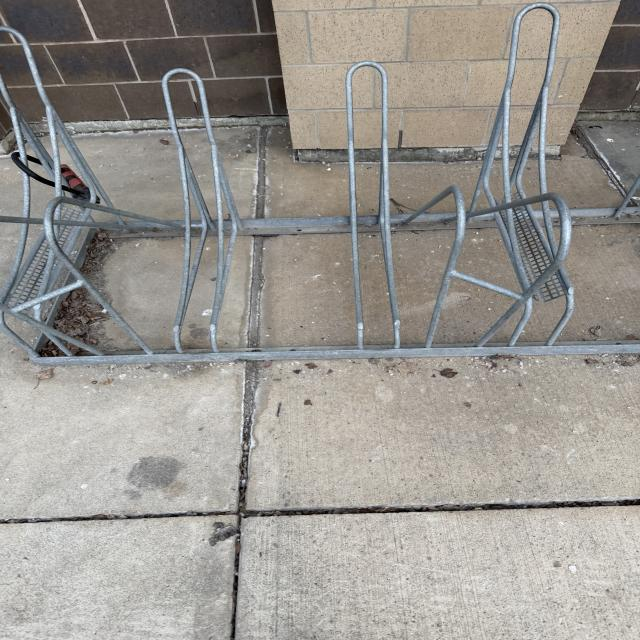Bicycle Rack: (0, 8, 640, 367)
